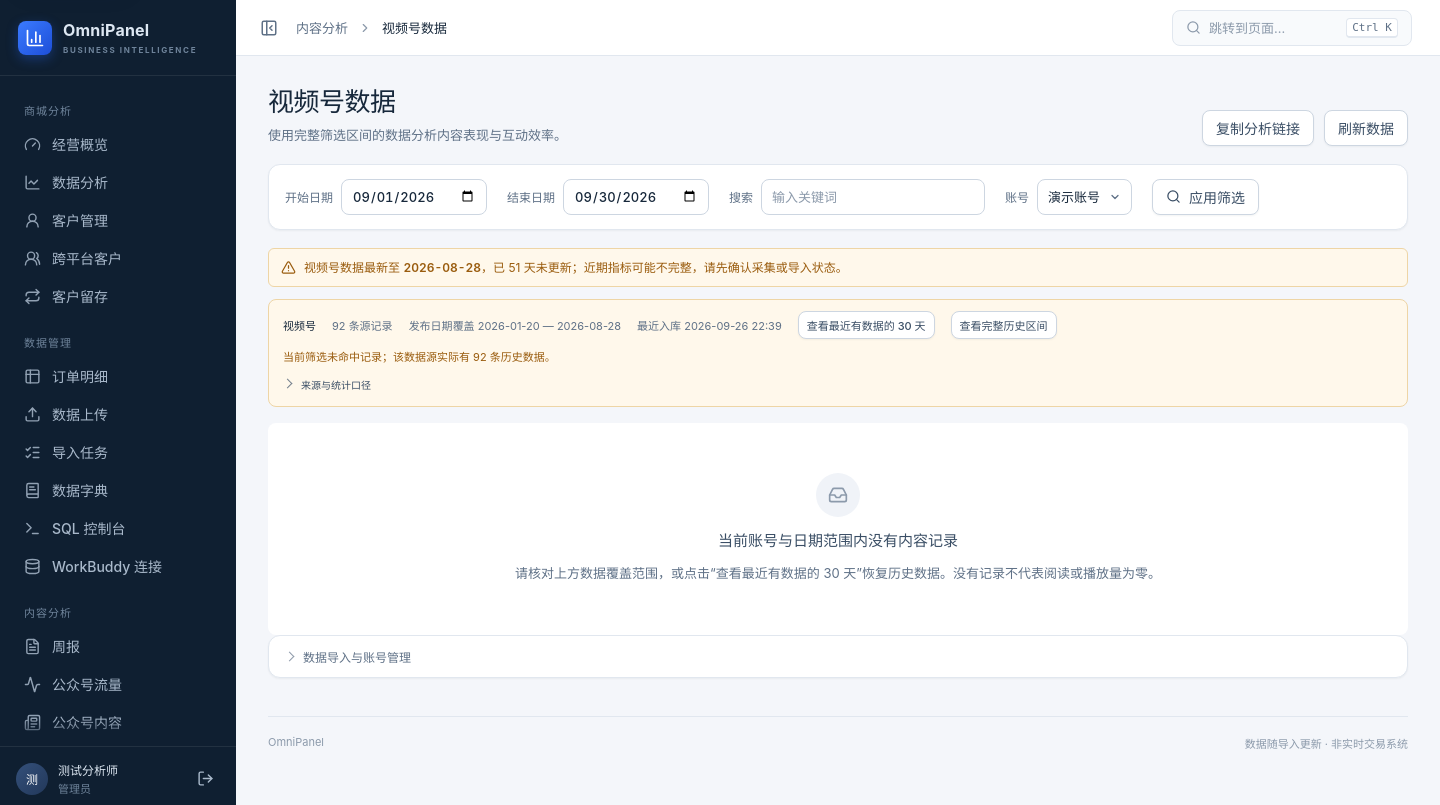
Test: migrated workspace pages › preserves explicit empty channel dates and recovers history without zero charts
Expected: the text "当前账号与日期范围内没有内容记录" is shown, [718, 529, 958, 550]
Expected: the date field labelled "结束日期" holds "2026-09-30", [563, 179, 709, 215]
Click the button "查看最近有数据的 30 天" at (866, 325), box [798, 311, 935, 339]
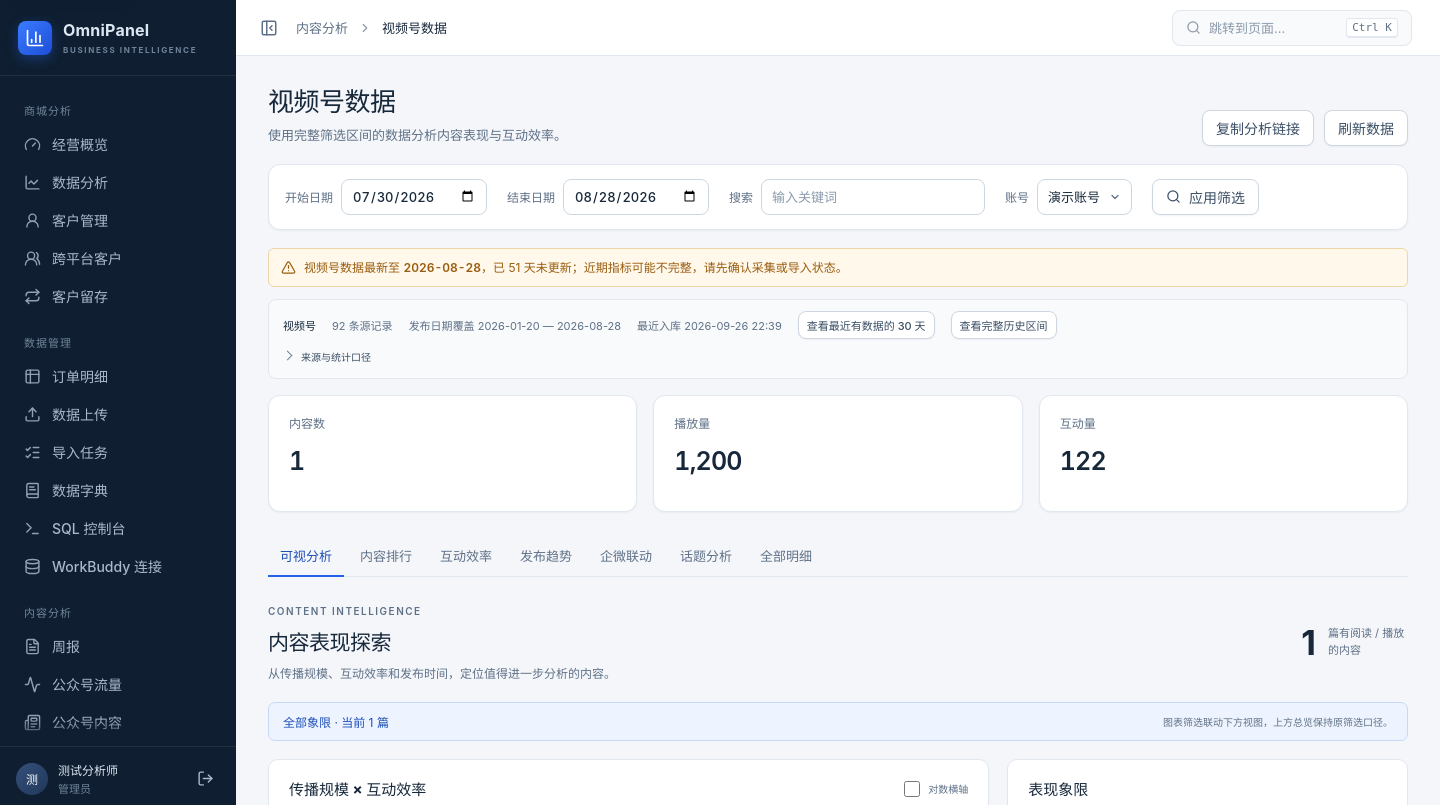
Result: the heading "内容表现探索" is shown at [268, 630, 391, 655]
Result: the date field labelled "结束日期" holds "2026-08-28" at [563, 179, 709, 215]
